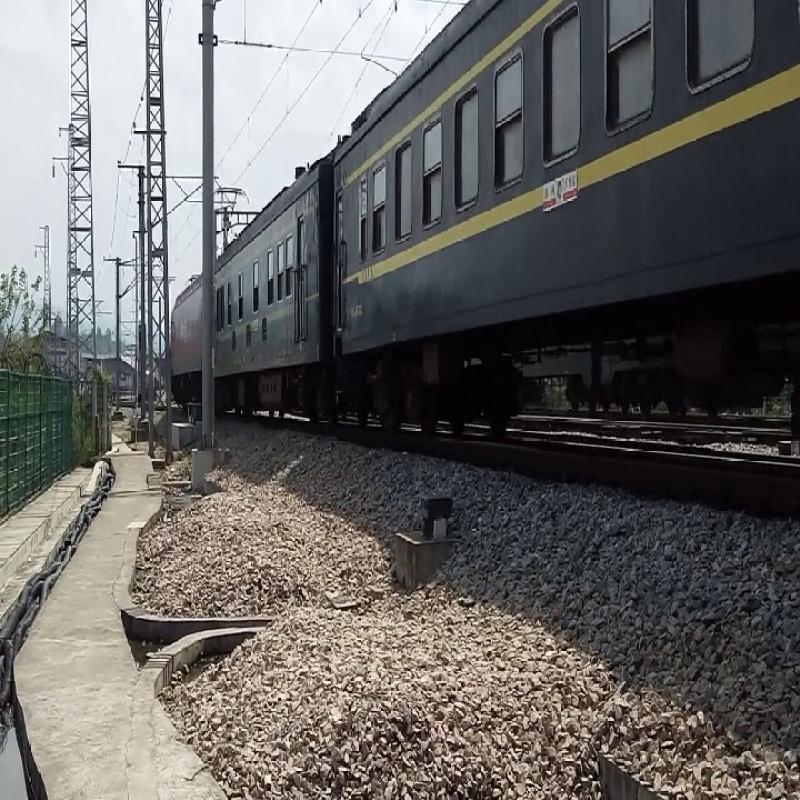train: (161, 289, 347, 408)
